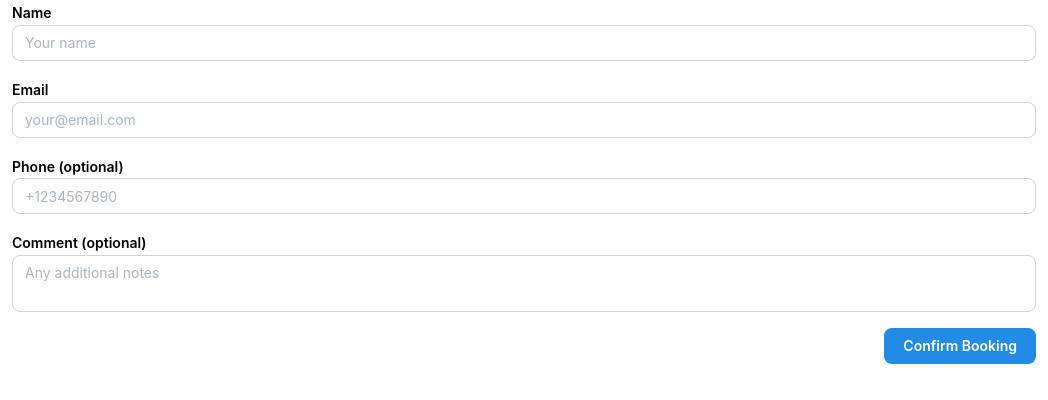
GuestDetailsForm › shows validation error when email is invalid
The width and height of the screenshot is (1048, 400).
Type "John" into the field labelled "Name" at (524, 43), box top-left (12, 25), bottom-right (1036, 61)
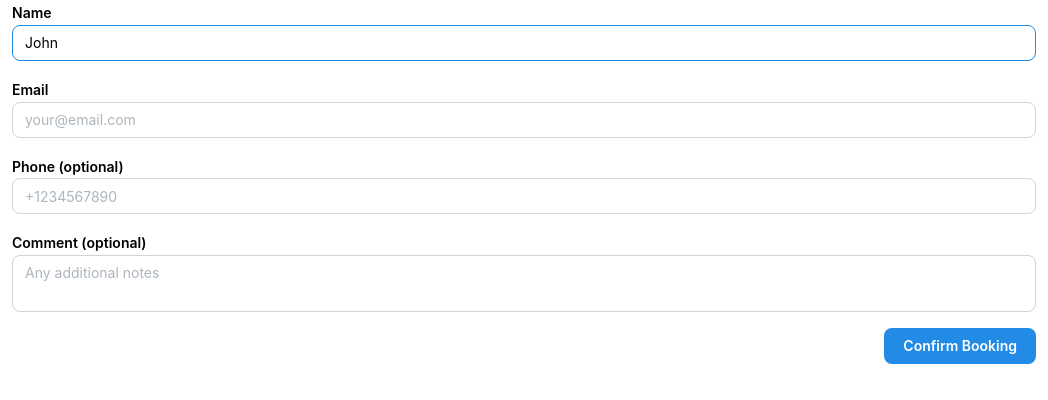
Type "invalid" into the field labelled "Email" at (524, 120), box top-left (12, 102), bottom-right (1036, 138)
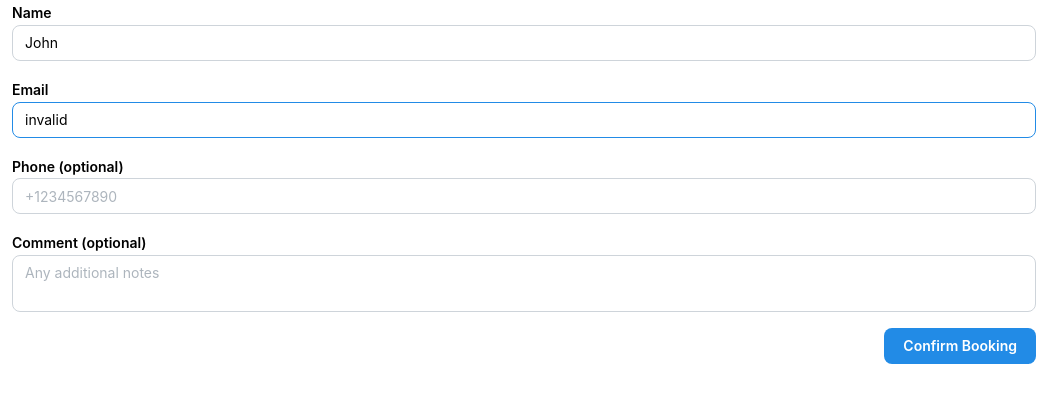
Click the button "Confirm Booking" at (960, 346), box top-left (884, 328), bottom-right (1036, 364)
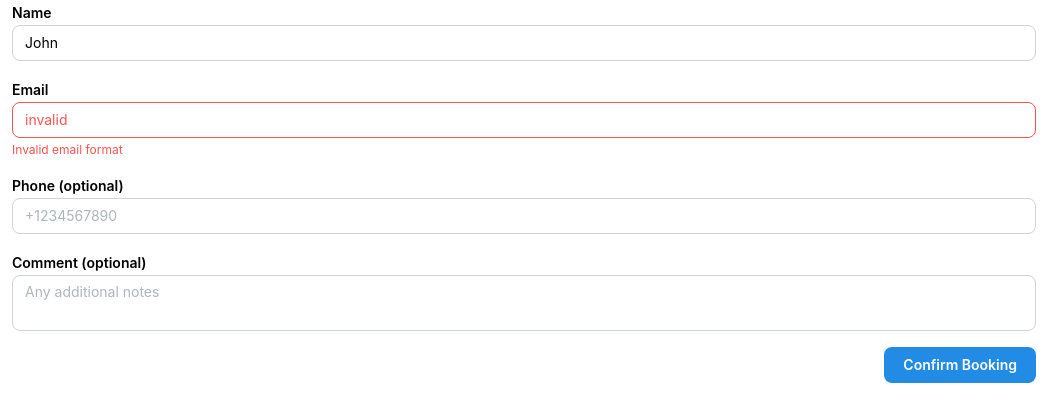
Check: the text "Invalid email format" is shown, box top-left (12, 142), bottom-right (123, 157)
